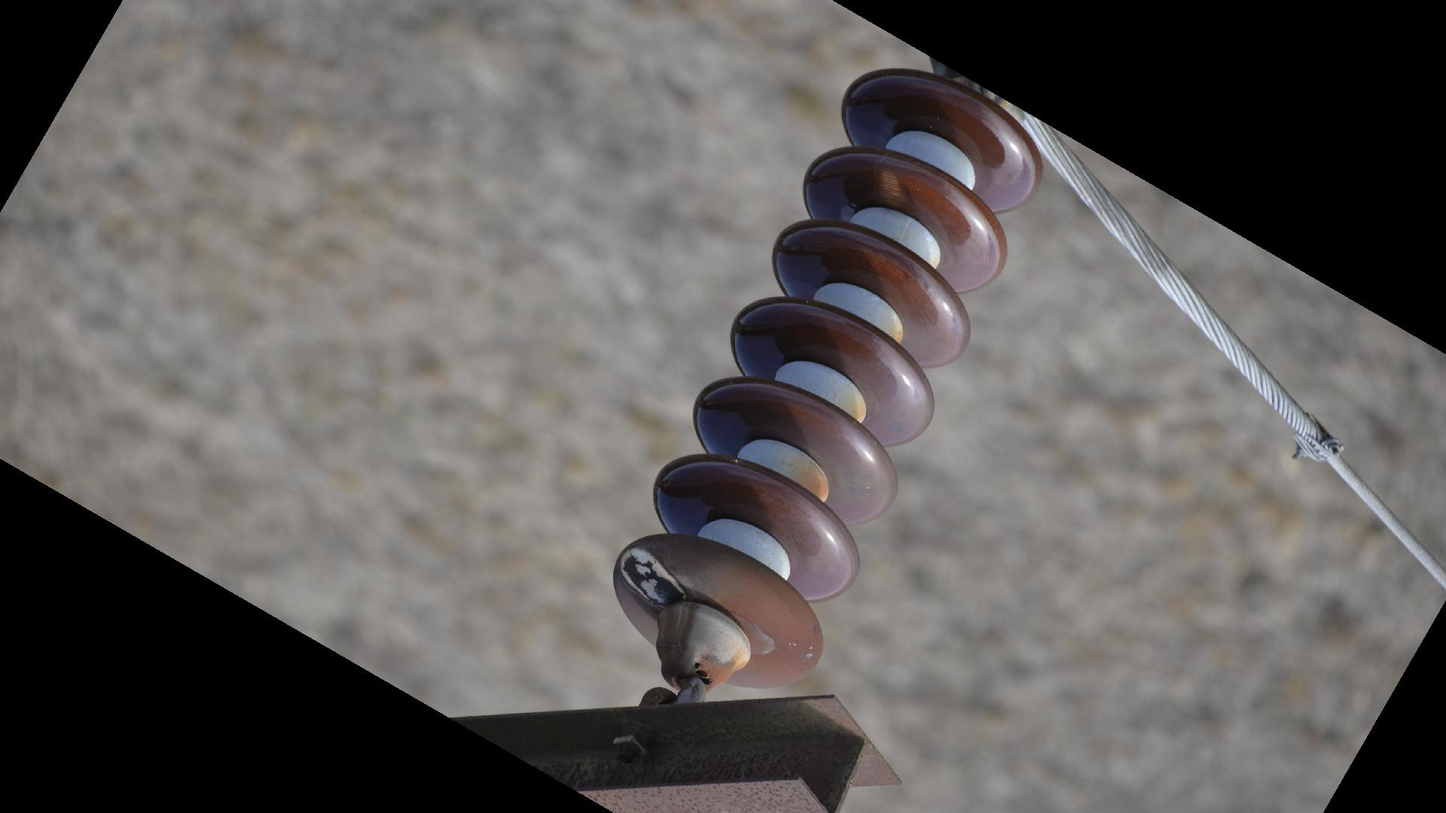insulator: (607, 59, 1048, 692)
insulator_flashover: (617, 544, 689, 611), (871, 160, 913, 216)
